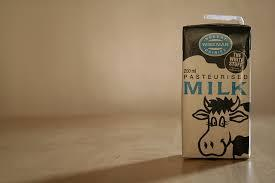Tetra pack: (166, 10, 260, 170)
